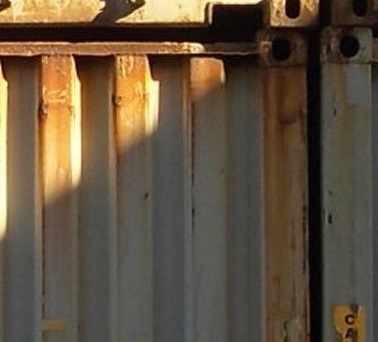container_no_door: (1, 34, 311, 342)
